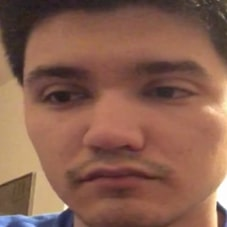drowsy: (24, 55, 216, 199)
